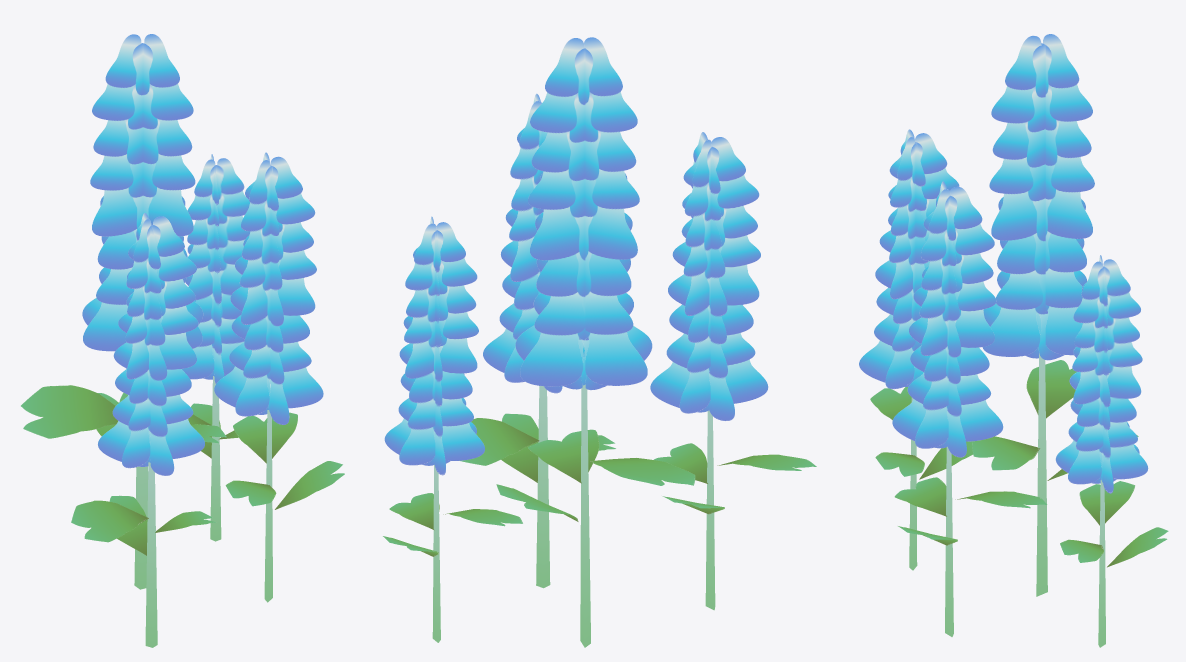
The model's file is SM_Env_Flower_B1_1.fbx.
3 renders of one model, left to right at view 1: azimuth 30°, elevation 25°; view 2: azimuth 150°, elevation 25°; view 3: azimuth 270°, elevation 25°, orthographic. The views are drawn at different scales.
Visible parts, largest first — view 1: Env_Flower_B1_1; view 2: Env_Flower_B1_1; view 3: Env_Flower_B1_1.
Boxes of the visible parts, x1,y1,x2,y2 form: Env_Flower_B1_1: (21, 34, 344, 647); Env_Flower_B1_1: (383, 37, 816, 647); Env_Flower_B1_1: (859, 34, 1168, 647).
Size of the model in its own units: 4.7 by 8.64 by 4.4.
